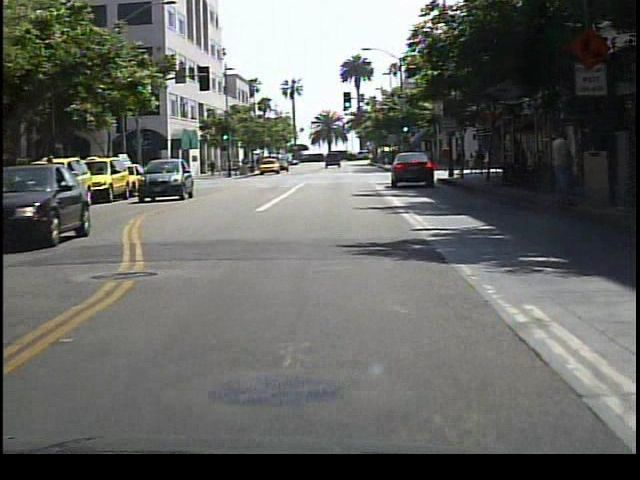person: (547, 125, 580, 213), (37, 148, 61, 213)
